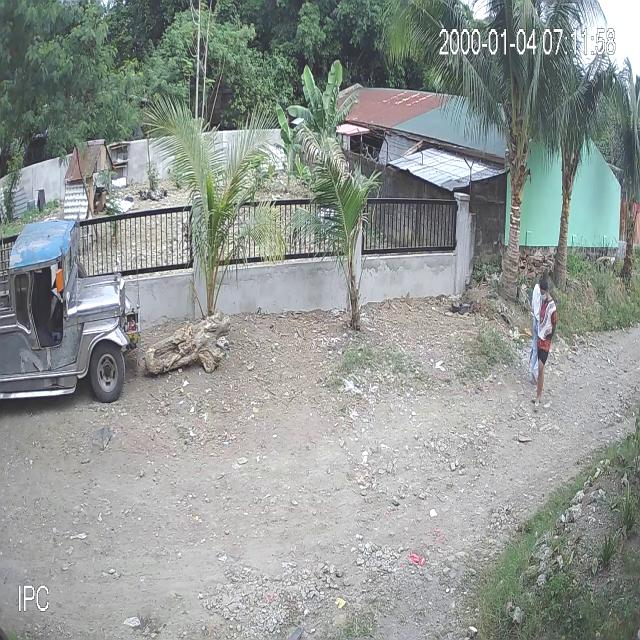walking: (529, 275, 558, 411), (526, 264, 554, 388)
